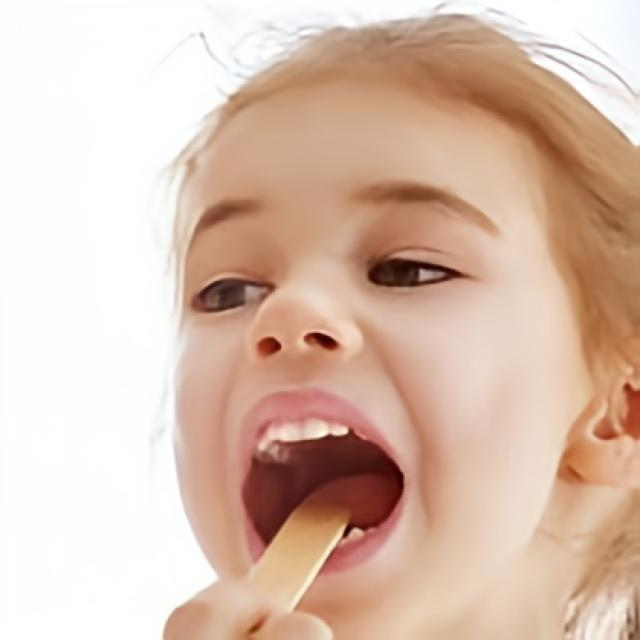surprise: (170, 88, 594, 640)
